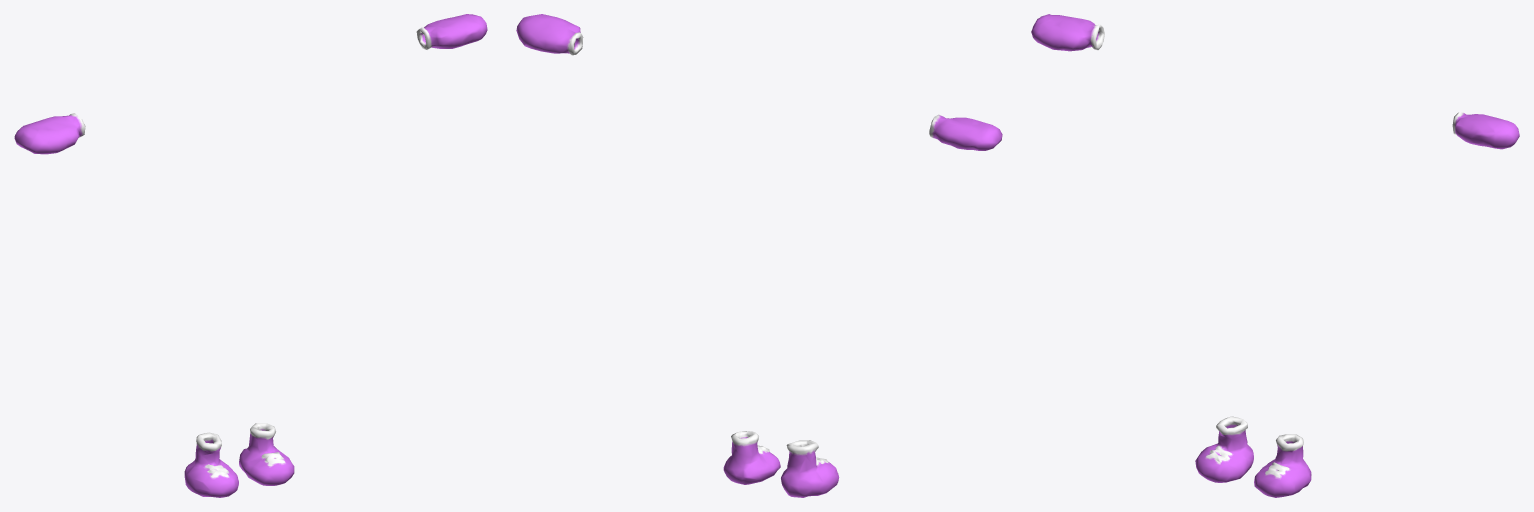
Rendered from purple shoes and gloves.glb.
3 views of the same model, side by side, from view 1: azimuth 30°, elevation 25°; view 2: azimuth 150°, elevation 25°; view 3: azimuth 330°, elevation 25° (orthographic). The views are drawn at different scales.
Visible parts, largest first — view 1: accessories_christmas_purple.001; view 2: accessories_christmas_purple.001; view 3: accessories_christmas_purple.001.
Part boxes in pixels (bbox=[...]): accessories_christmas_purple.001: bbox=[14, 14, 487, 497]; accessories_christmas_purple.001: bbox=[516, 14, 1002, 497]; accessories_christmas_purple.001: bbox=[1031, 14, 1519, 497].
Bounding box in the file's own units: 1.01 × 0.8411 × 0.1316.
1 material, 1 textured.
